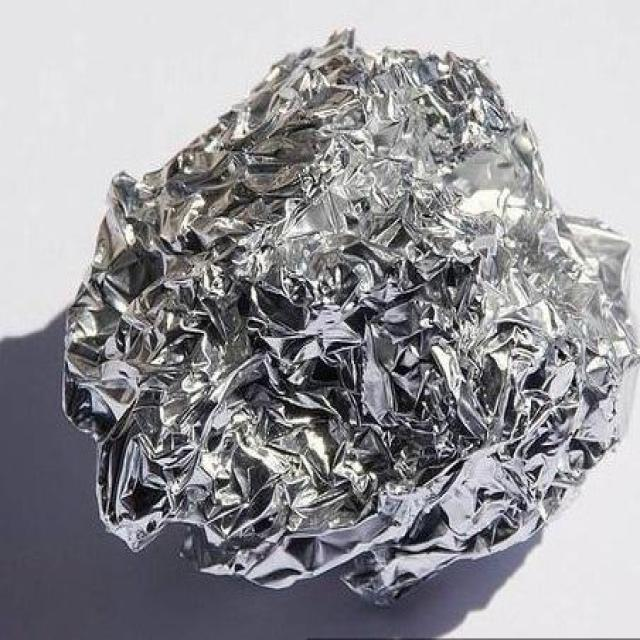inorganic: (59, 29, 639, 614)
